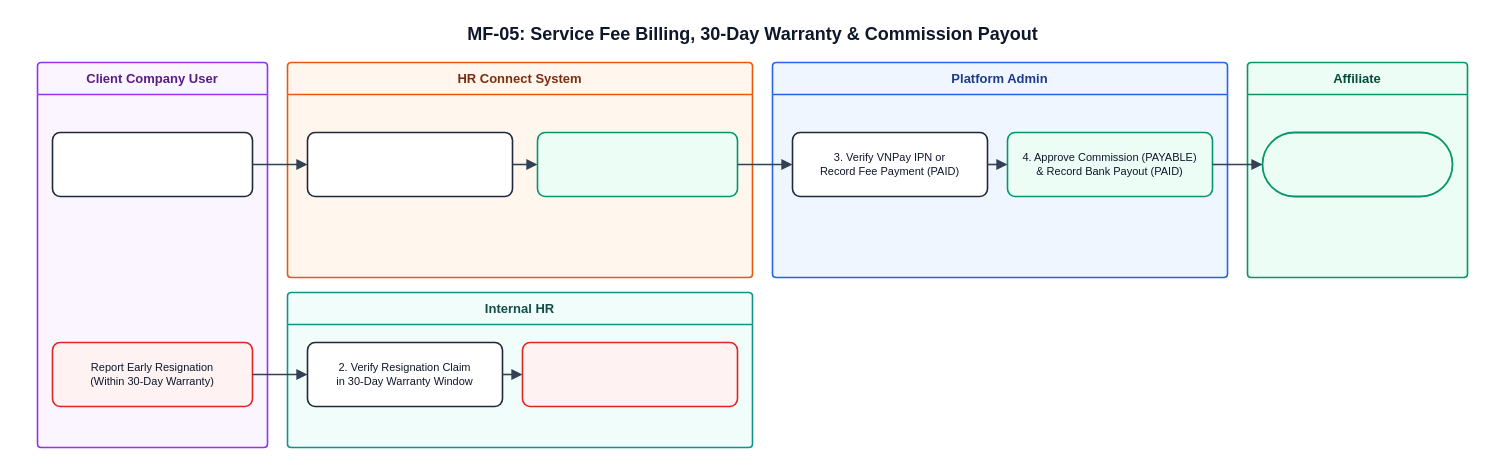
Image size: 1504x465. Some labels were removed from this diagram. The shapes that lost their labels are listed below. From the top down, each one's centre as x and y in pixels, then its label:
[152,164]: 1. View Service Fee & Pay via VNPay / Bank Transfer
[409,164]: Calculate Fee (DUE), Track 30d Warranty & IN_WARRANTY
[637,164]: After 30d -> Warranty PASSED & Commission EARNED
[1357,164]: 5. Track Commission Ledger, Payout Receipt & Rating
[629,374]: Confirm Resignation (VOIDED, Cancel Comm & 1 ReplacementSlot)
